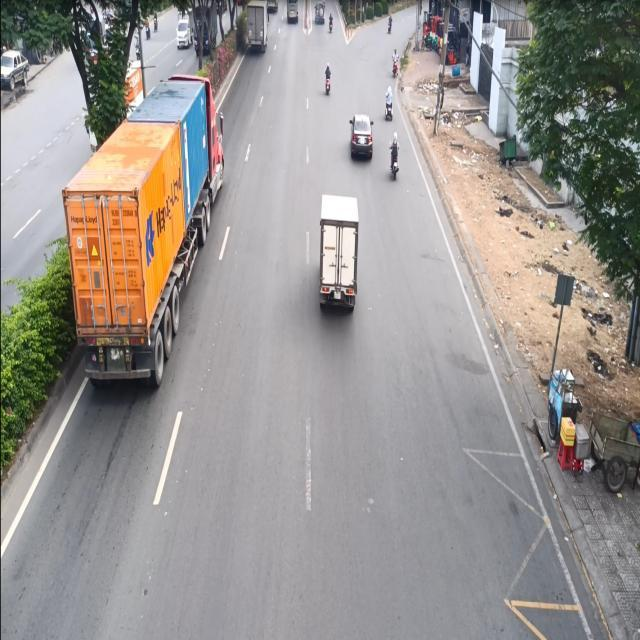car: (0, 49, 30, 91), (349, 113, 374, 160)
container-truck: (60, 72, 225, 388)
truck: (318, 193, 359, 313)
